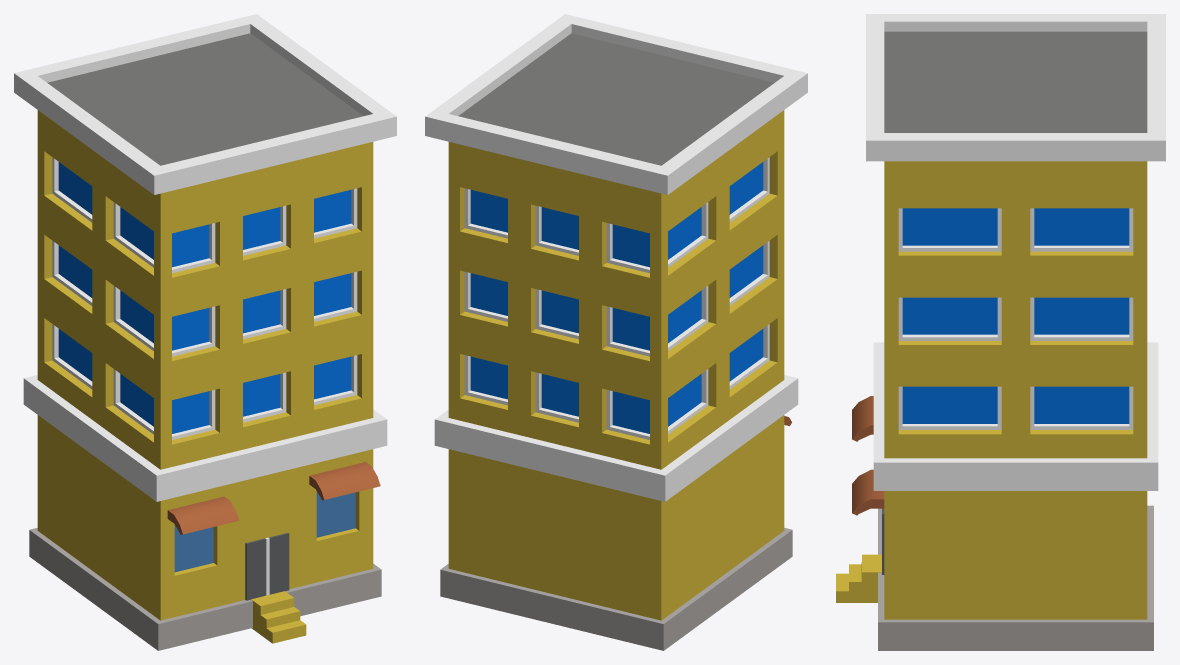
The model's file is Apartment_3.fbx.
The picture shows the model from 3 angles, left to right: view 1: azimuth 30°, elevation 25°; view 2: azimuth 150°, elevation 25°; view 3: azimuth 270°, elevation 25°; orthographic projection. The views are drawn at different scales.
Visible parts, largest first — view 1: Apartment_3; view 2: Apartment_3; view 3: Apartment_3.
Part boxes in pixels (left/top/right/bottom): Apartment_3: left=14, top=14, right=396, bottom=650; Apartment_3: left=425, top=14, right=807, bottom=650; Apartment_3: left=836, top=14, right=1165, bottom=650.
Bounding box in the file's own units: 837 × 1593 × 921.
